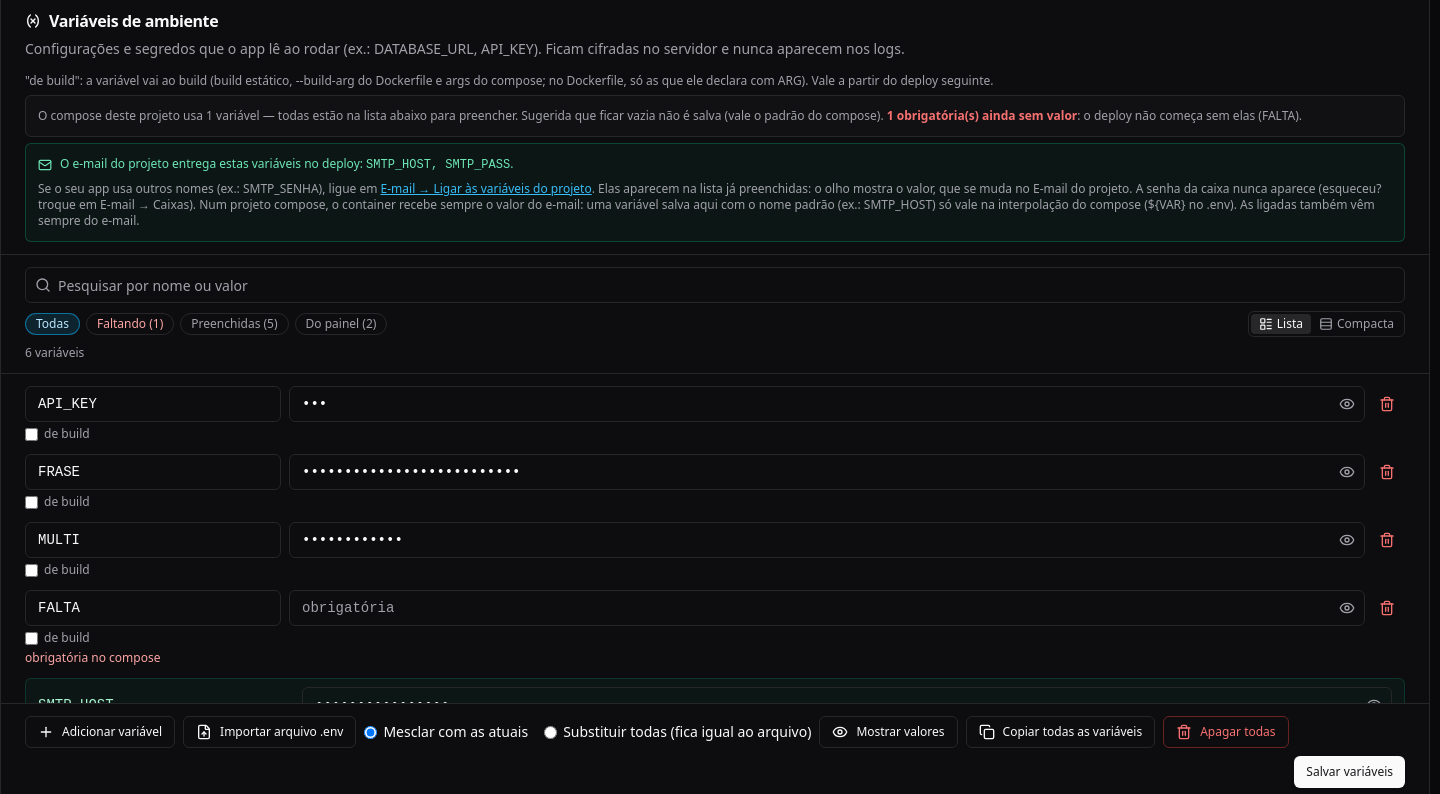
Test case: Copiar todas as variáveis › copia valores reais (não a máscara), inclusive a senha buscada, e reimporta igual
Expected: the password field showing "abc" is shown, [289,386,1365,422]
What coordinates should you click on to do the following:
click the button "Copiar todas as variáveis"
I would click on:
 (1060, 732)
Its box is [966,716,1155,748].
(page scrolled)
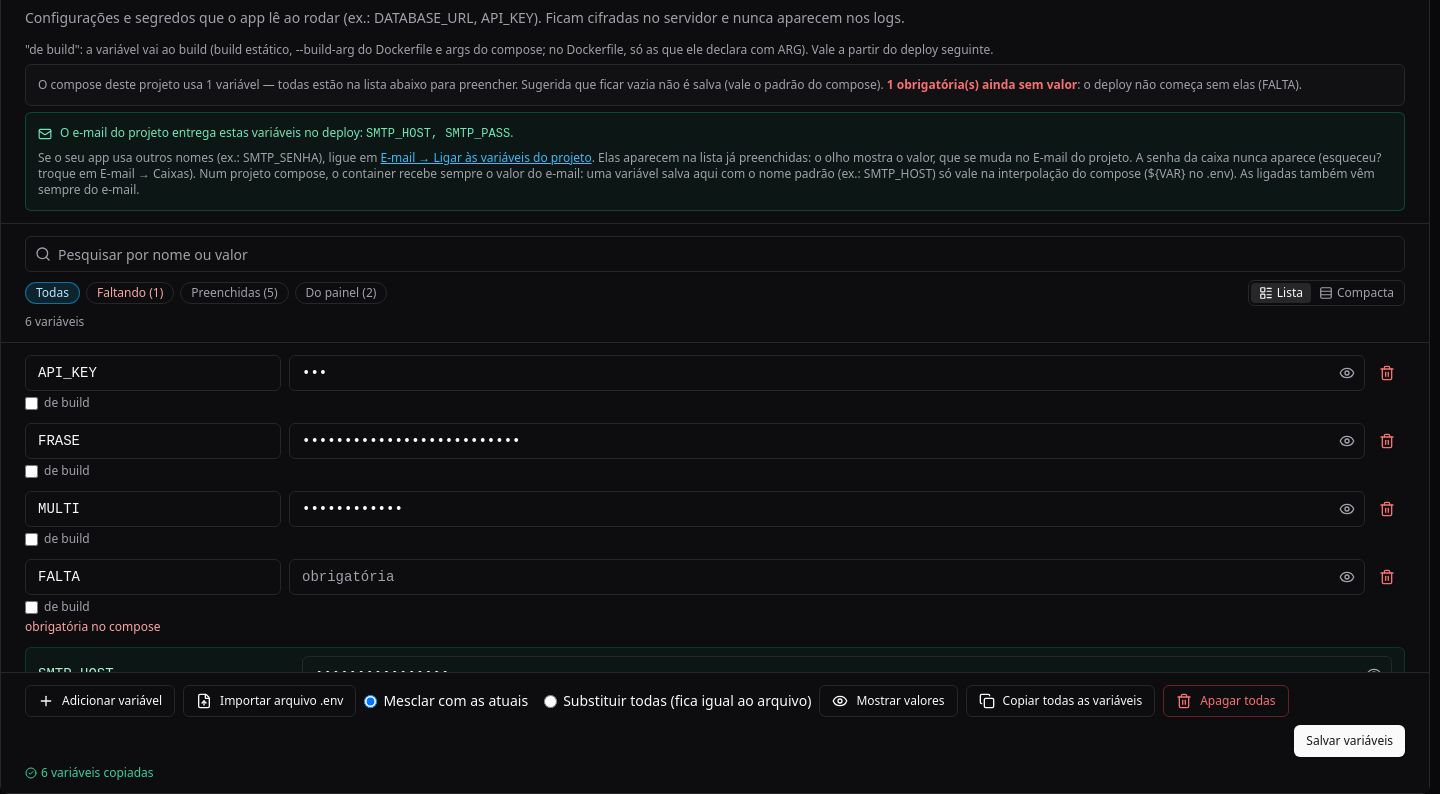
Result: the text "6 variáveis copiadas" is shown at [25,764,154,781]
